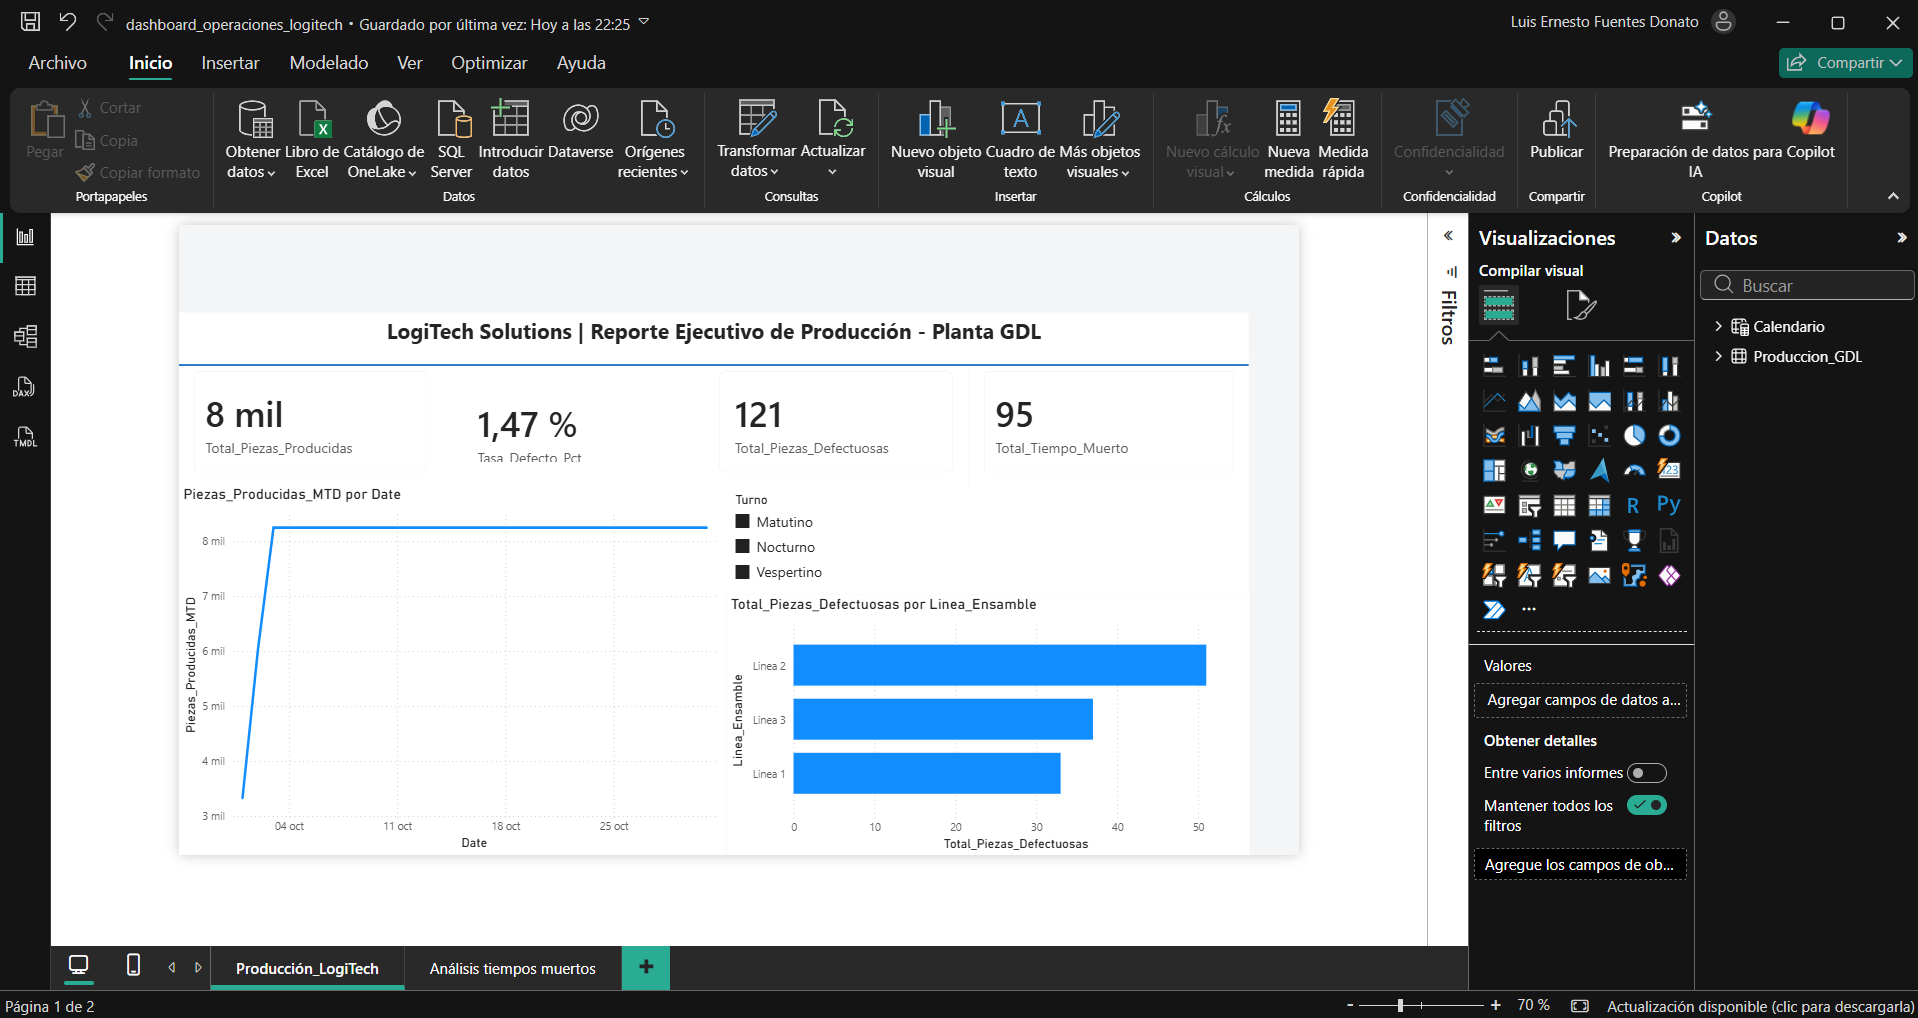

The dashboard page shown, as its layout file describes it:
{"tool":"powerbi","page":{"name":"Página 1","canvas":[1280,720],"ordinal":0},"visuals":[{"type":"cardVisual","fields":{"Data":["Produccion_GDL.Total_Piezas_Defectuosas"]},"box":[600,150,302.5,150],"z":0},{"type":"cardVisual","fields":{"Data":["Produccion_GDL.Total_Piezas_Producidas"]},"box":[0,150,300,150],"z":1000},{"type":"cardVisual","fields":{"Data":["Produccion_GDL.Tasa_Defecto_Pct"]},"box":[300,150,300,150],"z":2000},{"type":"cardVisual","fields":{"Data":["Produccion_GDL.Total_Tiempo_Muerto"]},"box":[902.5,150,320,150],"z":3000},{"type":"lineChart","fields":{"Category":["Calendario.Date"],"Y":["Produccion_GDL.Piezas_Producidas_MTD"]},"box":[0,297.5,625,422.5],"z":4000},{"type":"clusteredBarChart","fields":{"Category":["Produccion_GDL.Linea_Ensamble"],"Y":["Produccion_GDL.Total_Piezas_Defectuosas"]},"box":[625,422.5,597.5,297.5],"z":5000},{"type":"slicer","fields":{"Values":["Produccion_GDL.Turno"]},"box":[622.5,300,600,122.5],"z":6000},{"type":"textbox","box":[0,100,1222.5,60],"z":7000},{"type":"shape","box":[0,10,1222.5,300],"z":8000}]}

Visuals, with their boxes on the page's 1280x720 design canvas (x1, y1, x2, y2). These are canvas units, not pixel positions in the 1918x1018 screenshot, which may show the page scaled, cropped or inside an application window:
cardVisual - Produccion_GDL.Total_Piezas_Defectuosas: bbox(600, 150, 902, 300)
cardVisual - Produccion_GDL.Total_Piezas_Producidas: bbox(0, 150, 300, 300)
cardVisual - Produccion_GDL.Tasa_Defecto_Pct: bbox(300, 150, 600, 300)
cardVisual - Produccion_GDL.Total_Tiempo_Muerto: bbox(902, 150, 1222, 300)
lineChart - Calendario.Date x Produccion_GDL.Piezas_Producidas_MTD: bbox(0, 298, 625, 720)
clusteredBarChart - Produccion_GDL.Linea_Ensamble x Produccion_GDL.Total_Piezas_Defectuosas: bbox(625, 422, 1222, 720)
slicer - Produccion_GDL.Turno: bbox(622, 300, 1222, 422)
textbox: bbox(0, 100, 1222, 160)
shape: bbox(0, 10, 1222, 310)
